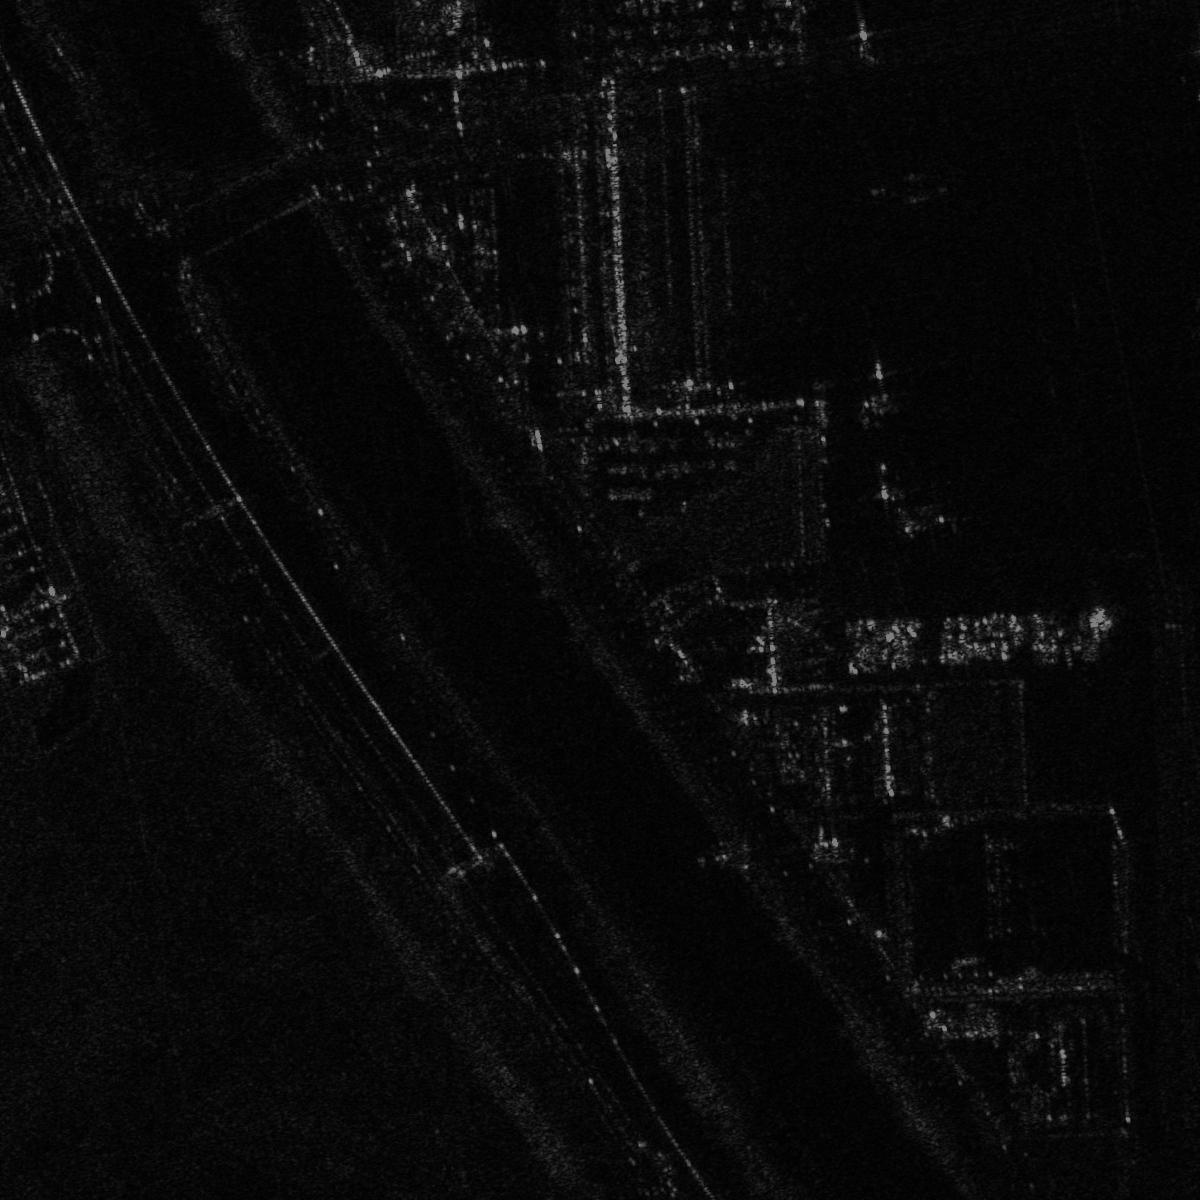A220: (884, 482, 978, 546)
other: (1182, 15, 1199, 138)
